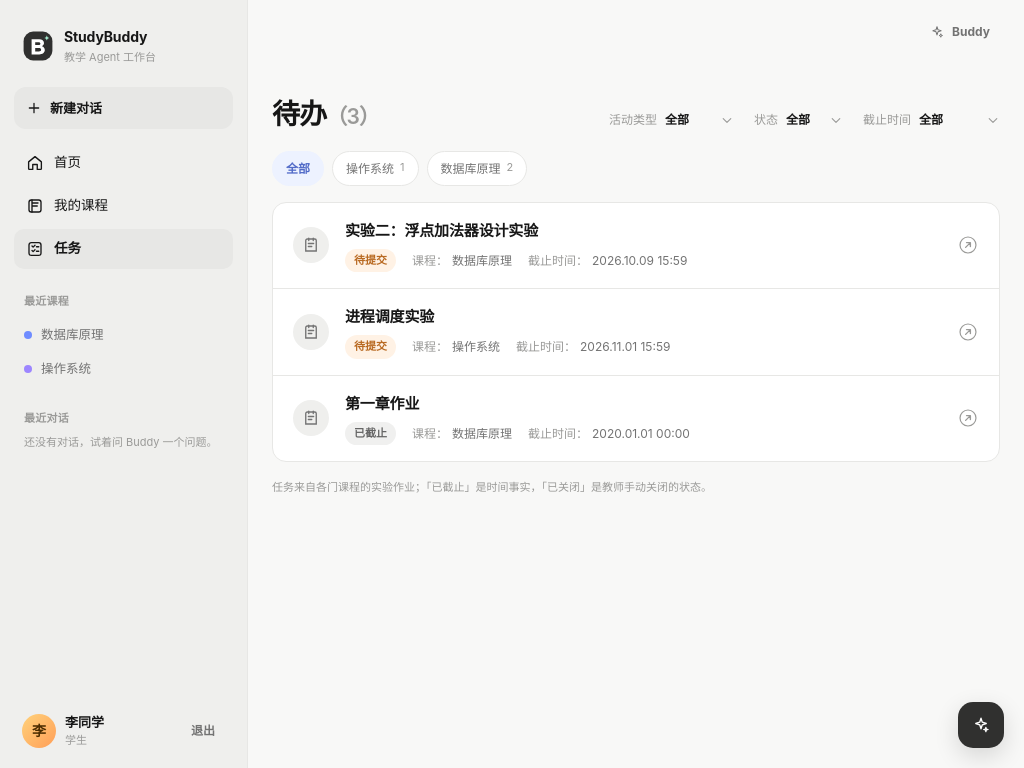
任务页 › 筛选后为空时给出可操作的提示，清除筛选会重置全部三个条件
Expected: the text "实验二：浮点加法器设计实验" is shown, [345, 221, 538, 240]
# 学生没有草稿，因此「待提交」+「未设置截止」必然为空
Step 1. Select "待提交" in the dropdown labelled "状态" → coordinates (814, 120), box [786, 105, 843, 135]
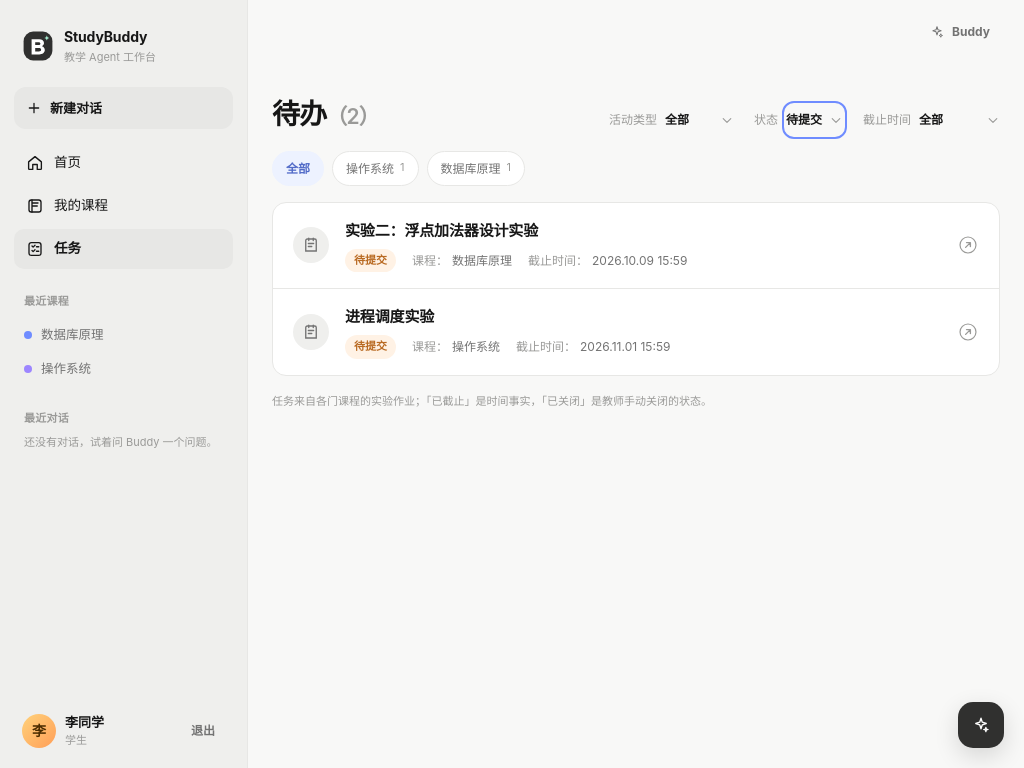
Step 2. Select "未设置截止" in the dropdown labelled "截止时间" → coordinates (960, 120), box [919, 105, 1000, 135]
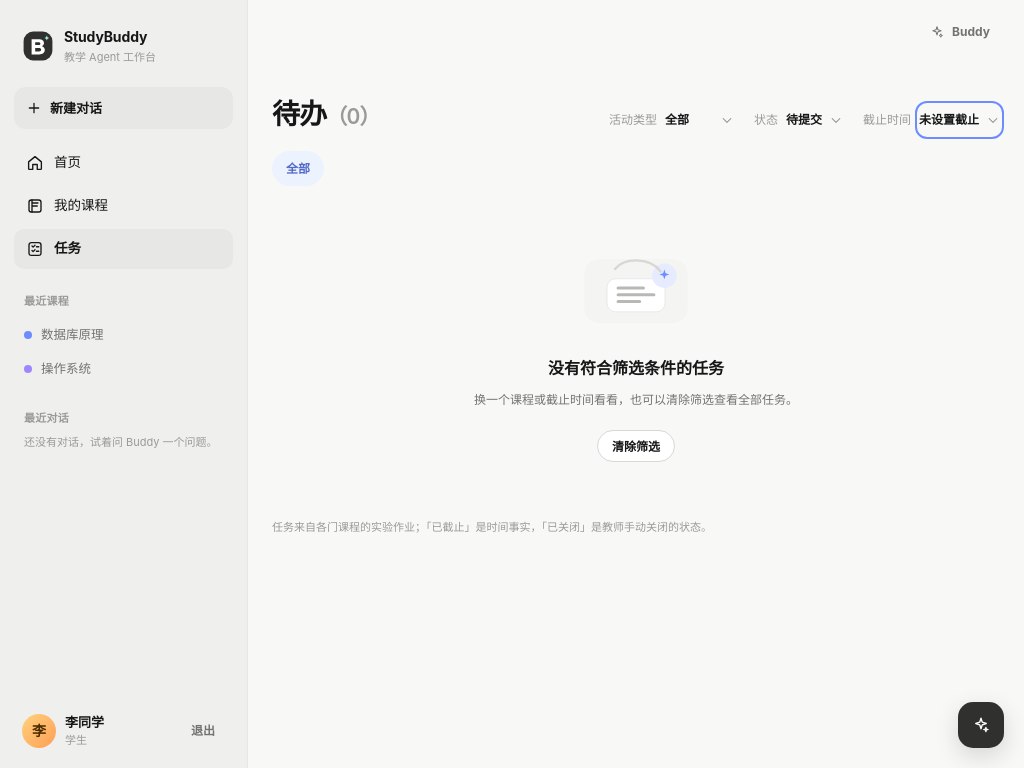
Expected: the text "没有符合筛选条件的任务" is shown, [548, 356, 724, 382]
Step 3. Click the button "清除筛选" → coordinates (636, 446), box [597, 430, 675, 462]
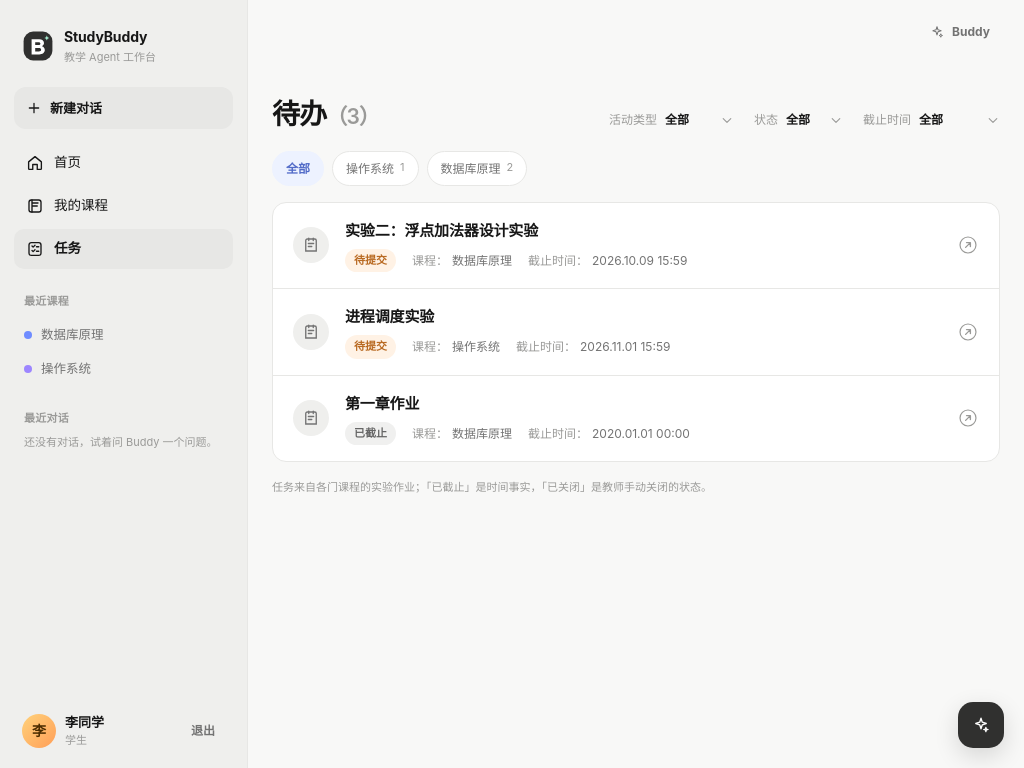
Expected: the dropdown labelled "活动类型" shows "全部", [665, 105, 734, 135]
Expected: the text "实验二：浮点加法器设计实验" is shown, [345, 221, 538, 240]
Expected: the heading "待办（3）" is shown, [272, 96, 379, 132]
